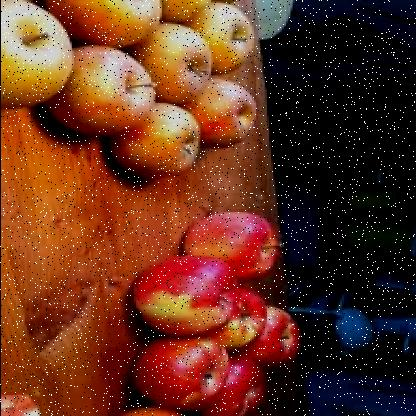apple: (135, 252, 238, 342), (70, 54, 154, 146), (2, 6, 70, 112), (138, 329, 232, 405), (115, 106, 200, 186), (187, 211, 283, 280), (191, 74, 264, 144), (56, 3, 166, 48), (212, 286, 268, 355), (195, 8, 251, 72), (214, 350, 272, 411), (244, 304, 300, 364)
